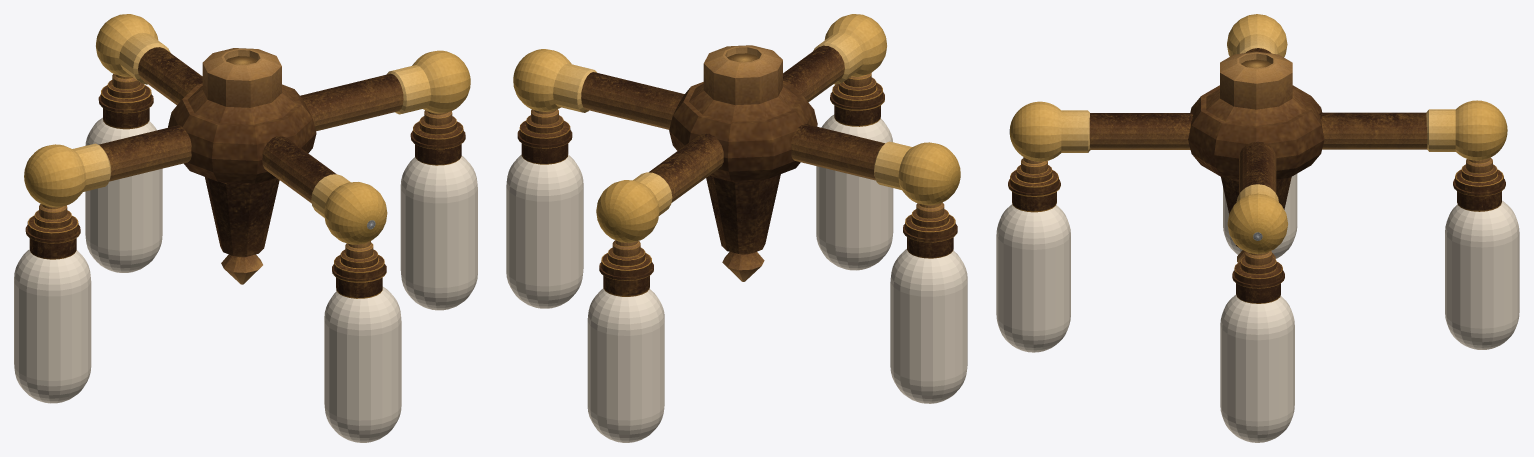
File: Light.fbx
3 renders of one model, left to right at view 1: azimuth 30°, elevation 25°; view 2: azimuth 150°, elevation 25°; view 3: azimuth 270°, elevation 25°, orthographic. The views are drawn at different scales.
Parts seen in each view (by area): view 1: pCylinder21; view 2: pCylinder21; view 3: pCylinder21.
Part boxes in pixels (x1=…): pCylinder21: x1=14, y1=14, x2=477, y2=442; pCylinder21: x1=506, y1=14, x2=967, y2=442; pCylinder21: x1=996, y1=14, x2=1519, y2=442.
Bounding box in the file's own units: 3.36 × 2.12 × 3.51.
